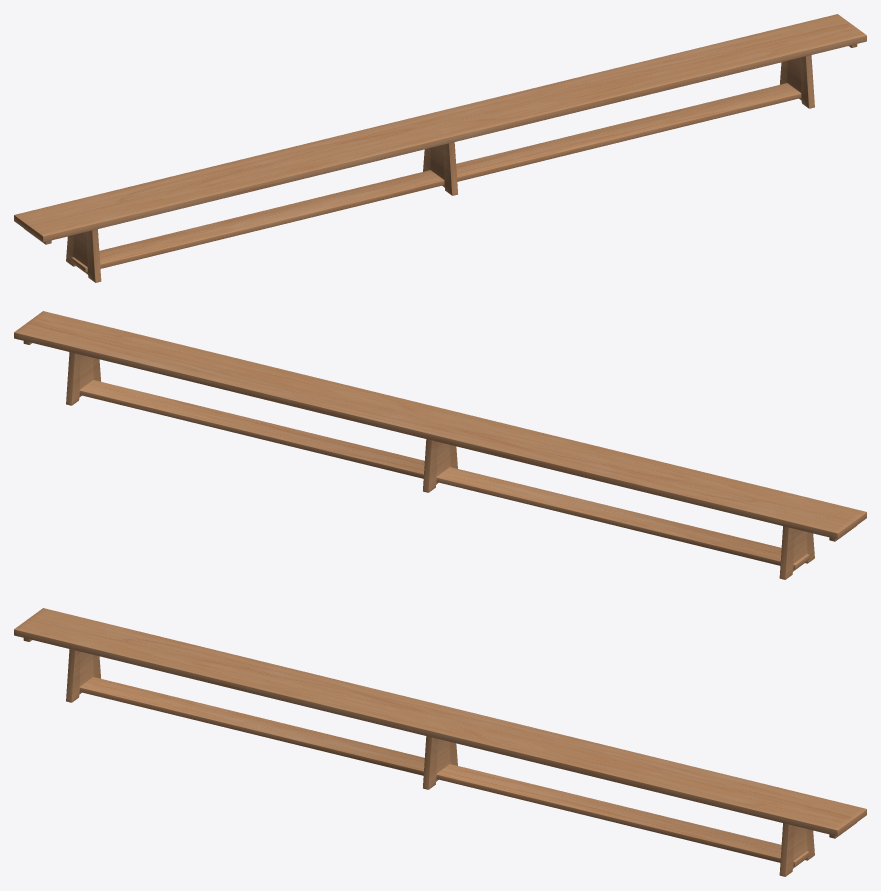
Rendered from bank.fbx.
3 renders of one model, top to bottom at view 1: azimuth 30°, elevation 25°; view 2: azimuth 150°, elevation 25°; view 3: azimuth 330°, elevation 25°, orthographic.
Visible parts, largest first — view 1: Bank; view 2: Bank; view 3: Bank.
Part boxes in pixels (x1=…): Bank: x1=14, y1=14, x2=866, y2=282; Bank: x1=14, y1=311, x2=866, y2=579; Bank: x1=14, y1=608, x2=866, y2=876.
Size of the model in its own units: 0.2528 by 4.06 by 0.28.
